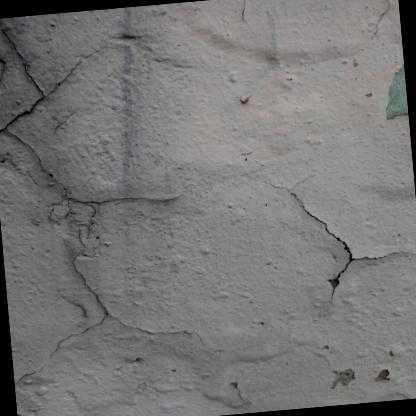crack: (18, 258, 187, 381), (0, 28, 104, 133), (298, 201, 395, 293)
